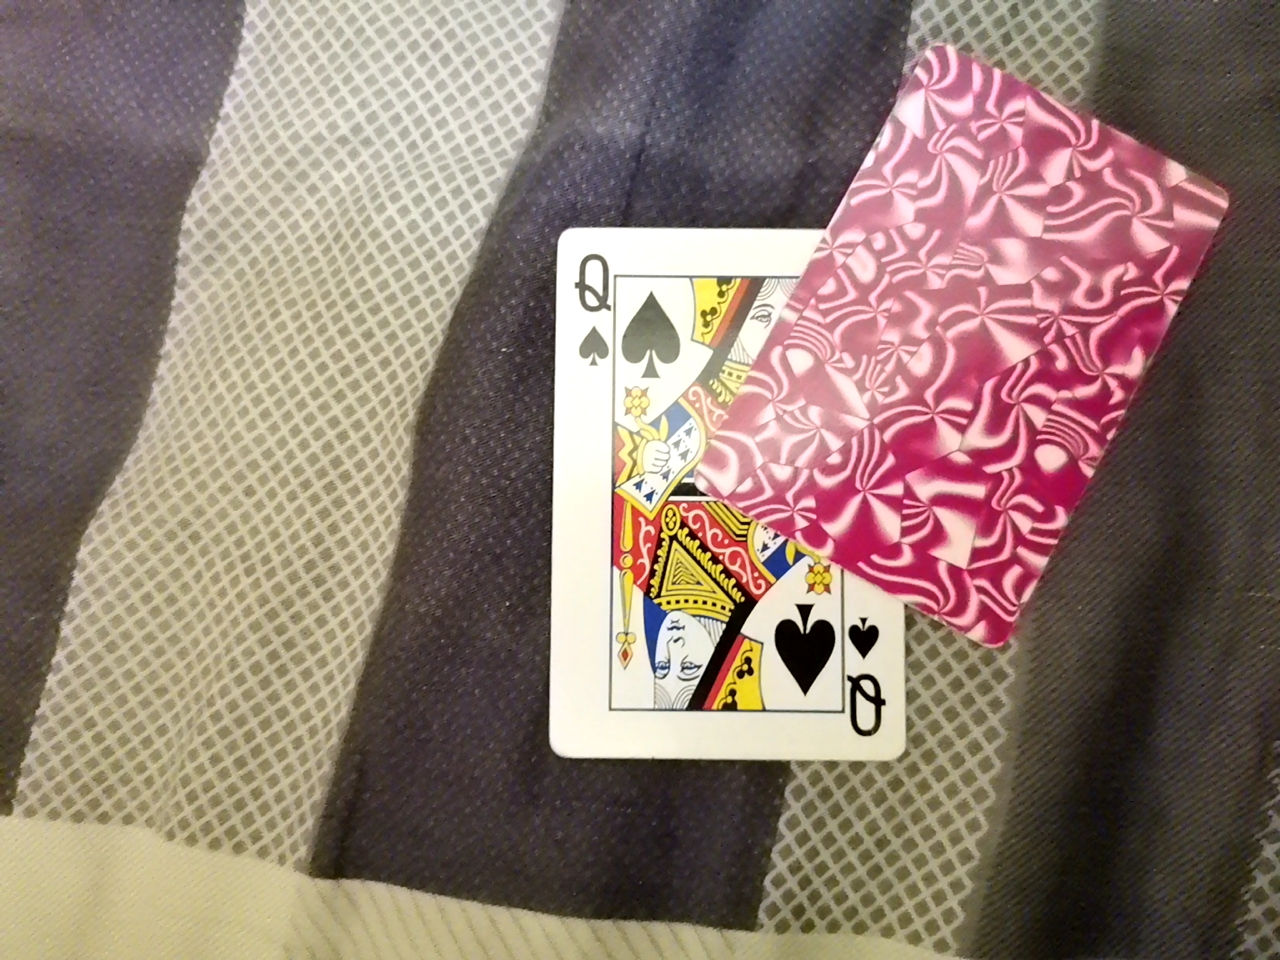ht q: (533, 245, 969, 781)
